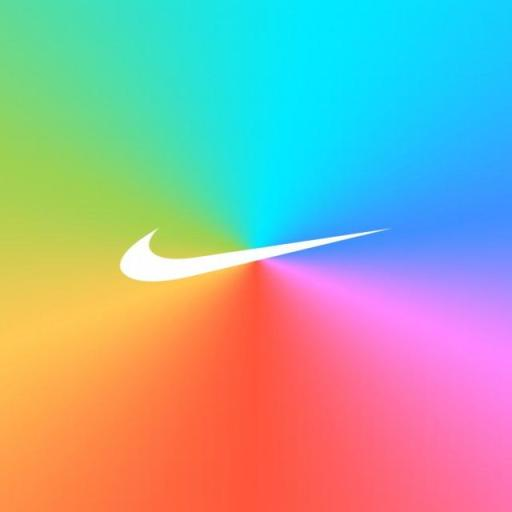Nike: (113, 226, 400, 284)
